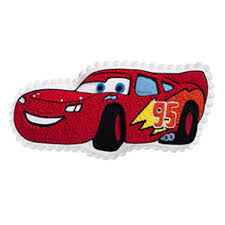mcqueen: (13, 67, 210, 152)
